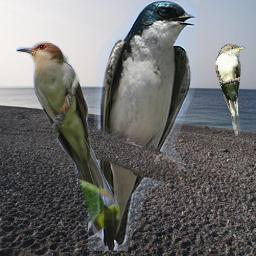Cuckoo: (16, 41, 120, 237), (215, 43, 245, 137)
Swallow: (88, 1, 197, 251)
